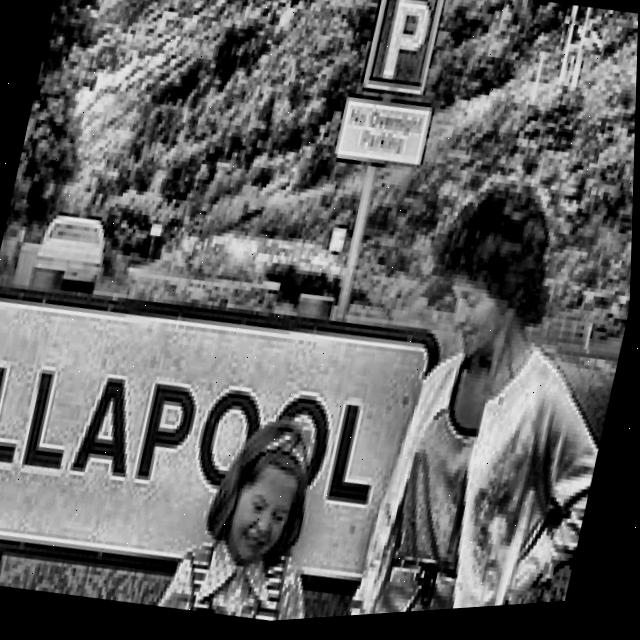light_vehicle: (27, 207, 114, 300)
